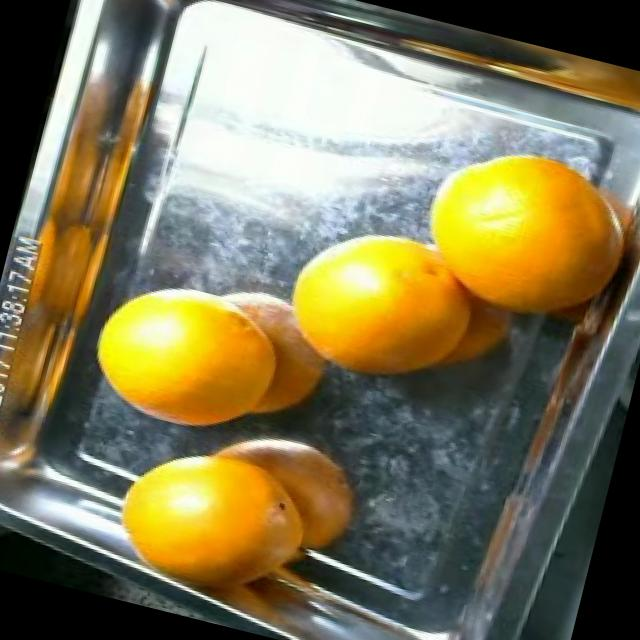Fruit: (247, 188, 499, 418), (64, 248, 305, 463)
